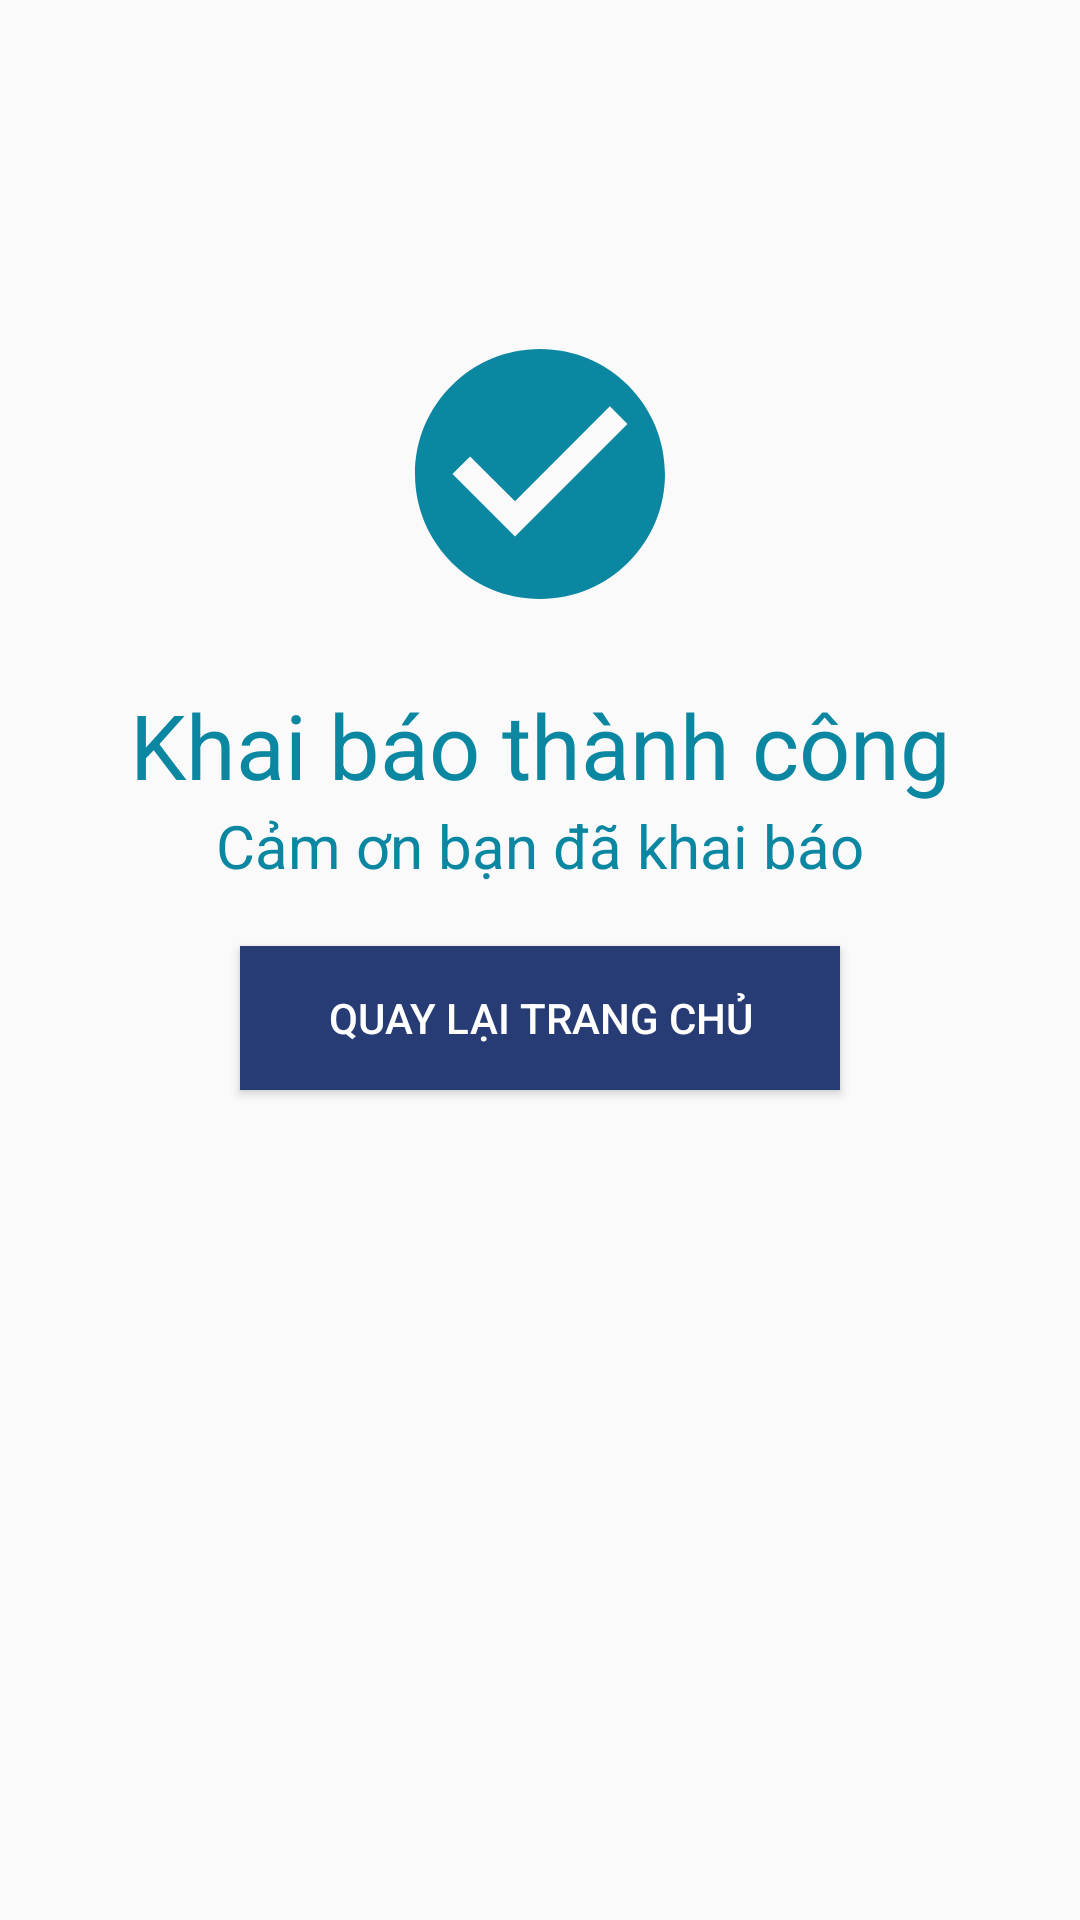

Screen size 1080 × 1920. Icon name, then its box in pixels as box=[x1, y1, x2, y2]:
check circle: box=[415, 349, 665, 599]
